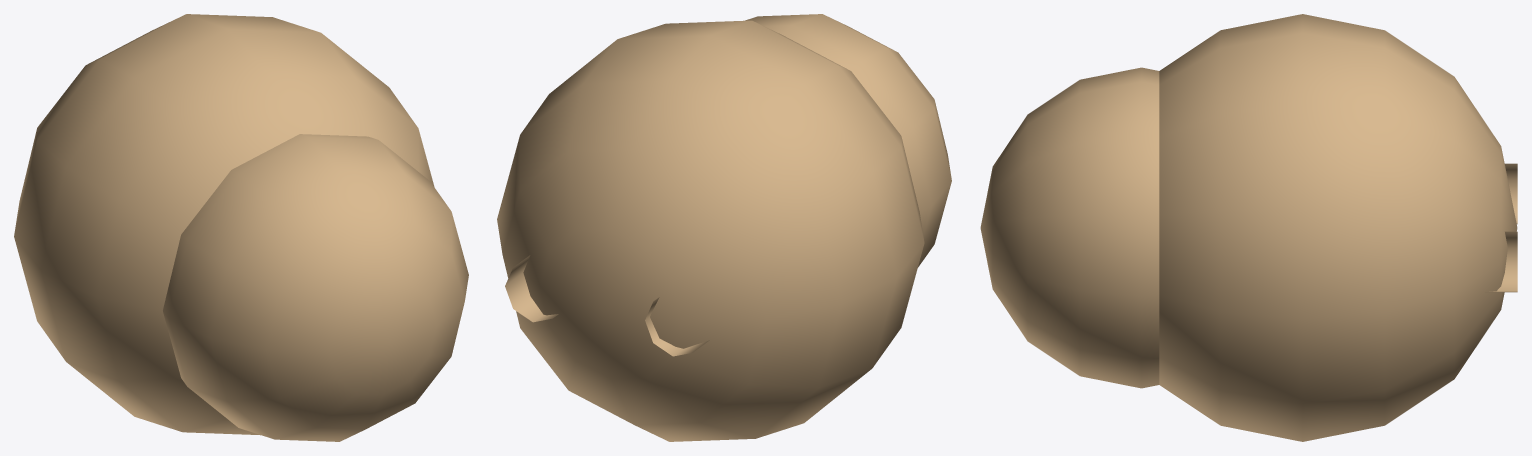
3 renders of one model, left to right at view 1: azimuth 30°, elevation 25°; view 2: azimuth 150°, elevation 25°; view 3: azimuth 270°, elevation 25°, orthographic.
Visible parts, largest first — view 1: Greater Bilby; view 2: Greater Bilby; view 3: Greater Bilby.
Boxes of the visible parts, bbox=[...] form: Greater Bilby: bbox=[14, 14, 468, 441]; Greater Bilby: bbox=[497, 14, 951, 441]; Greater Bilby: bbox=[980, 14, 1517, 441].
Size of the model in its own units: 1.08 by 1.08 by 1.35.
